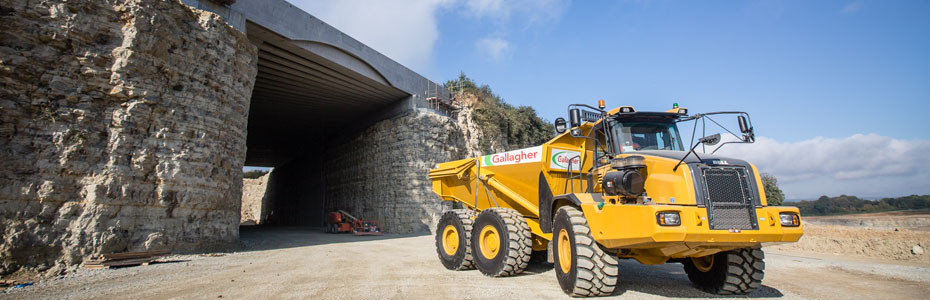bridge: (184, 1, 460, 167)
